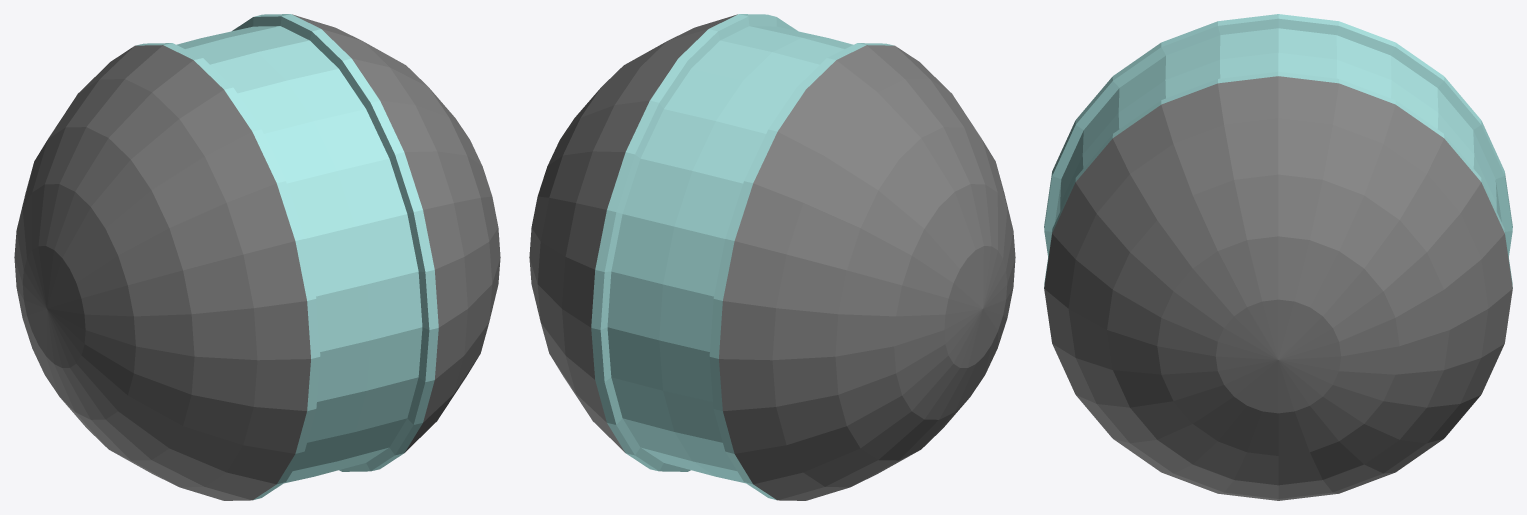
The model's file is earth-model.gltf.
The picture shows the model from 3 angles, left to right: view 1: azimuth 30°, elevation 25°; view 2: azimuth 150°, elevation 25°; view 3: azimuth 270°, elevation 25°; orthographic projection.
Parts seen in each view (by area): view 1: Earth; view 2: Earth; view 3: Earth.
Part boxes in pixels (x1,y1,x2,y2): Earth: (14,14,500,500); Earth: (529,14,1015,500); Earth: (1044,14,1512,500).
Size of the model in its own units: 10 by 9.67 by 9.67.
